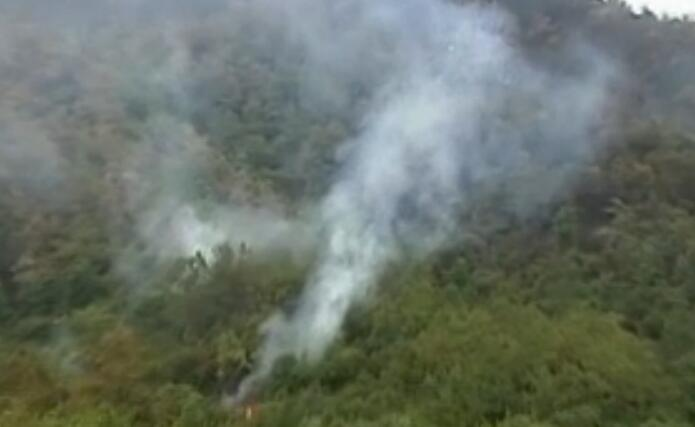yanwu: (1, 1, 601, 373)
